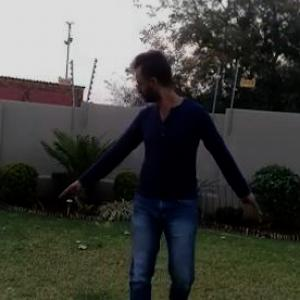land: (53, 56, 288, 299)
